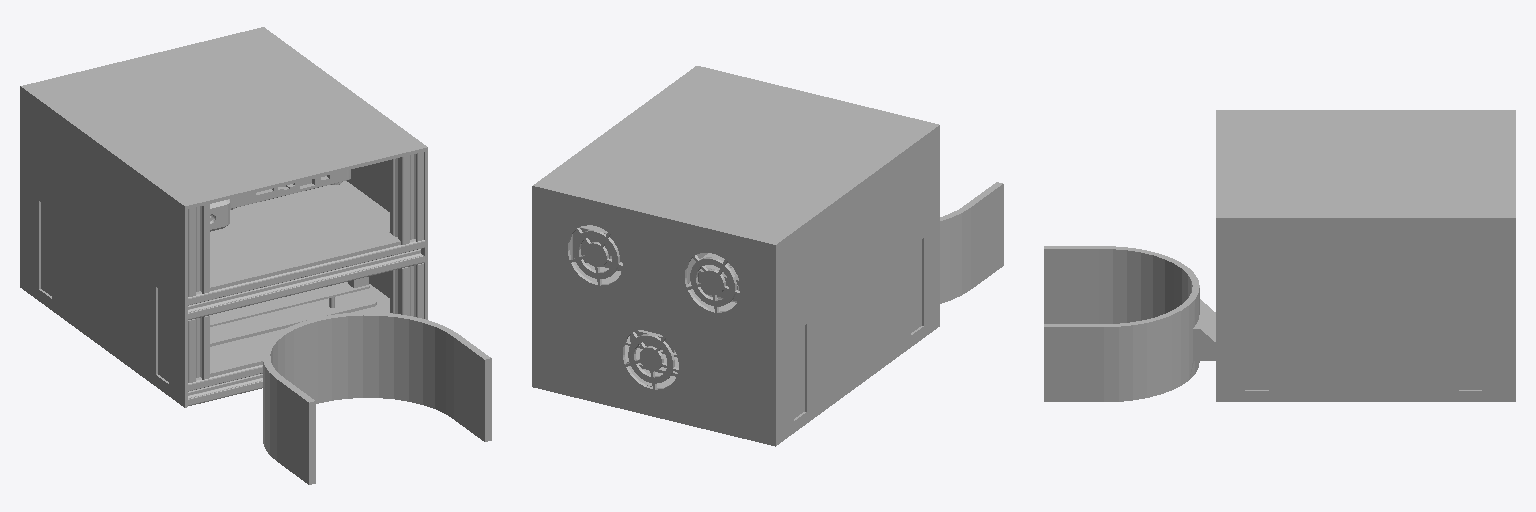
robot.urdf — cw2:
<?xml version="1.0" encoding="utf-8"?>
<!-- This URDF was automatically created by SolidWorks to URDF Exporter! Originally created by [author] ([email redacted]) 
     Commit Version: 1.5.1-0-g916b5db  Build Version: 1.5.7152.31018
     For more information, please see http://wiki.ros.org/sw_urdf_exporter -->
<robot
  name="cw2">
  <link
    name="Base">
    <inertial>
      <origin
        xyz="-0.0103440198515111 0.00278990141042701 0.307992605321708"
        rpy="0 0 0" />
      <mass
        value="5.26325366509137" />
      <inertia
        ixx="0.0219350627580291"
        ixy="-4.01751561824983E-06"
        ixz="-1.47975198134269E-06"
        iyy="0.0231941861217009"
        iyz="-8.31653282119486E-06"
        izz="0.0148943720049105" />
    </inertial>
    <visual>
      <origin
        xyz="0 0 0"
        rpy="0 0 0" />
      <geometry>
        <mesh
          filename="package://cw2/meshes/Base.STL" />
      </geometry>
      <material
        name="">
        <color
          rgba="0.752941176470588 0.752941176470588 0.752941176470588 1" />
      </material>
    </visual>
    <collision>
      <origin
        xyz="0 0 0"
        rpy="0 0 0" />
      <geometry>
        <mesh
          filename="package://cw2/meshes/Base.STL" />
      </geometry>
    </collision>
  </link>
  <link
    name="LFS">
    <inertial>
      <origin
        xyz="0.0666875210853818 0.00364278355332764 -0.0648369138582873"
        rpy="0 0 0" />
      <mass
        value="0.26437001106024" />
      <inertia
        ixx="3.20746276473134E-05"
        ixy="-1.44118283521323E-07"
        ixz="-6.30853084344804E-08"
        iyy="6.22704126338856E-05"
        iyz="-2.01894652764193E-07"
        izz="6.28519936954001E-05" />
    </inertial>
    <visual>
      <origin
        xyz="0 0 0"
        rpy="0 0 0" />
      <geometry>
        <mesh
          filename="package://cw2/meshes/LFS.STL" />
      </geometry>
      <material
        name="">
        <color
          rgba="0.752941176470588 0.752941176470588 0.752941176470588 1" />
      </material>
    </visual>
    <collision>
      <origin
        xyz="0 0 0"
        rpy="0 0 0" />
      <geometry>
        <mesh
          filename="package://cw2/meshes/LFS.STL" />
      </geometry>
    </collision>
  </link>
  <joint
    name="LFS"
    type="prismatic">
    <origin
      xyz="0.195921511885521 -0.400832554820273 -0.125694167771293"
      rpy="2.8339623757072 0 3.14159265358979" />
    <parent
      link="Base" />
    <child
      link="LFS" />
    <axis
      xyz="0 0.30280101609128 -0.953053799454201" />
    <limit
      lower="0"
      upper="0"
      effort="0"
      velocity="0" />
  </joint>
  <link
    name="LFW">
    <inertial>
      <origin
        xyz="-0.012315724574073 -1.38777878078145E-17 0"
        rpy="0 0 0" />
      <mass
        value="0.193585420779862" />
      <inertia
        ixx="0.000253081141332254"
        ixy="-5.88092833198904E-37"
        ixz="5.1845054750851E-21"
        iyy="0.000136818598566517"
        iyz="7.17557753438369E-37"
        izz="0.000136818598566517" />
    </inertial>
    <visual>
      <origin
        xyz="0 0 0"
        rpy="0 0 0" />
      <geometry>
        <mesh
          filename="package://cw2/meshes/LFW.STL" />
      </geometry>
      <material
        name="">
        <color
          rgba="1 1 1 1" />
      </material>
    </visual>
    <collision>
      <origin
        xyz="0 0 0"
        rpy="0 0 0" />
      <geometry>
        <mesh
          filename="package://cw2/meshes/LFW.STL" />
      </geometry>
    </collision>
  </link>
  <joint
    name="LFW"
    type="continuous">
    <origin
      xyz="0.000410991135076699 -0.0182187173367753 -0.0397861154043609"
      rpy="-1.87842660467749 0 3.14159265358979" />
    <parent
      link="LFS" />
    <child
      link="LFW" />
    <axis
      xyz="1 0 0" />
  </joint>
  <link
    name="RFS">
    <inertial>
      <origin
        xyz="0.0724473276378504 -0.00242306558271338 -0.0667549990091164"
        rpy="0 0 0" />
      <mass
        value="0.26437001106024" />
      <inertia
        ixx="3.20746276473134E-05"
        ixy="1.4411828352133E-07"
        ixz="6.30853084344787E-08"
        iyy="6.22704126338856E-05"
        iyz="-2.01894652764193E-07"
        izz="6.28519936954002E-05" />
    </inertial>
    <visual>
      <origin
        xyz="0 0 0"
        rpy="0 0 0" />
      <geometry>
        <mesh
          filename="package://cw2/meshes/RFS.STL" />
      </geometry>
      <material
        name="">
        <color
          rgba="0.752941176470588 0.752941176470588 0.752941176470588 1" />
      </material>
    </visual>
    <collision>
      <origin
        xyz="0 0 0"
        rpy="0 0 0" />
      <geometry>
        <mesh
          filename="package://cw2/meshes/RFS.STL" />
      </geometry>
    </collision>
  </link>
  <joint
    name="RFS"
    type="prismatic">
    <origin
      xyz="-0.224160276937101 -0.439516262899762 -0.125694167771293"
      rpy="2.8339623757072 0 0" />
    <parent
      link="Base" />
    <child
      link="RFS" />
    <axis
      xyz="0 0.30280101609128 -0.953053799454201" />
    <limit
      lower="0"
      upper="0"
      effort="0"
      velocity="0" />
  </joint>
  <link
    name="RFW">
    <inertial>
      <origin
        xyz="-0.012315724574073 0 0"
        rpy="0 0 0" />
      <mass
        value="0.193585420779862" />
      <inertia
        ixx="0.000253081141332254"
        ixy="-9.44297928840748E-22"
        ixz="9.68305644339428E-21"
        iyy="0.000136818598566517"
        iyz="1.01643953670516E-20"
        izz="0.000136818598566517" />
    </inertial>
    <visual>
      <origin
        xyz="0 0 0"
        rpy="0 0 0" />
      <geometry>
        <mesh
          filename="package://cw2/meshes/RFW.STL" />
      </geometry>
      <material
        name="">
        <color
          rgba="1 1 1 1" />
      </material>
    </visual>
    <collision>
      <origin
        xyz="0 0 0"
        rpy="0 0 0" />
      <geometry>
        <mesh
          filename="package://cw2/meshes/RFW.STL" />
      </geometry>
    </collision>
  </link>
  <joint
    name="RFW"
    type="continuous">
    <origin
      xyz="0.00617079768754525 0.000974051196125147 -0.0336899045278703"
      rpy="-0.699426690072099 0 3.14159265358979" />
    <parent
      link="RFS" />
    <child
      link="RFW" />
    <axis
      xyz="1 0 0" />
  </joint>
  <link
    name="LBS">
    <inertial>
      <origin
        xyz="0.0754022136877307 -0.00953574862501649 -0.0222014198592475"
        rpy="0 0 0" />
      <mass
        value="0.197009126147877" />
      <inertia
        ixx="1.68802738687172E-05"
        ixy="2.58362469530557E-21"
        ixz="1.18520819431776E-21"
        iyy="5.02184885667569E-05"
        iyz="1.05088759291849E-06"
        izz="4.72447473350486E-05" />
    </inertial>
    <visual>
      <origin
        xyz="0 0 0"
        rpy="0 0 0" />
      <geometry>
        <mesh
          filename="package://cw2/meshes/LBS.STL" />
      </geometry>
      <material
        name="">
        <color
          rgba="0.752941176470588 0.752941176470588 0.752941176470588 1" />
      </material>
    </visual>
    <collision>
      <origin
        xyz="0 0 0"
        rpy="0 0 0" />
      <geometry>
        <mesh
          filename="package://cw2/meshes/LBS.STL" />
      </geometry>
    </collision>
  </link>
  <joint
    name="LBS"
    type="prismatic">
    <origin
      xyz="0.195921511885521 -0.220832554820273 -0.0742634321807595"
      rpy="2.8339623757072 0 3.14159265358979" />
    <parent
      link="Base" />
    <child
      link="LBS" />
    <axis
      xyz="0 0.302801016091279 -0.953053799454201" />
    <limit
      lower="0"
      upper="0"
      effort="0"
      velocity="0" />
  </joint>
  <link
    name="LBC">
    <inertial>
      <origin
        xyz="0.0021267567875245 -0.00125107346378661 -2.77555756156289E-17"
        rpy="0 0 0" />
      <mass
        value="0.0337925918529465" />
      <inertia
        ixx="9.9077845929407E-06"
        ixy="1.2779398016802E-06"
        ixz="4.16196805620863E-22"
        iyy="2.88462343109062E-06"
        iyz="2.46038886416933E-21"
        izz="1.17553584577796E-05" />
    </inertial>
    <visual>
      <origin
        xyz="0 0 0"
        rpy="0 0 0" />
      <geometry>
        <mesh
          filename="package://cw2/meshes/LBC.STL" />
      </geometry>
      <material
        name="">
        <color
          rgba="0.898039215686275 0.917647058823529 0.929411764705882 1" />
      </material>
    </visual>
    <collision>
      <origin
        xyz="0 0 0"
        rpy="0 0 0" />
      <geometry>
        <mesh
          filename="package://cw2/meshes/LBC.STL" />
      </geometry>
    </collision>
  </link>
  <joint
    name="LBC"
    type="continuous">
    <origin
      xyz="0.0411609911350767 -0.0150684419408276 -0.00478749419309598"
      rpy="-1.87842660467749 0 3.14159265358979" />
    <parent
      link="LBS" />
    <child
      link="LBC" />
    <axis
      xyz="0 1 0" />
  </joint>
  <link
    name="LBW">
    <inertial>
      <origin
        xyz="0.017684275425927 0 0"
        rpy="0 0 0" />
      <mass
        value="0.193585420779862" />
      <inertia
        ixx="0.000253081141332254"
        ixy="-5.88092833198904E-37"
        ixz="5.1845054750851E-21"
        iyy="0.000136818598566517"
        iyz="7.17557753438369E-37"
        izz="0.000136818598566517" />
    </inertial>
    <visual>
      <origin
        xyz="0 0 0"
        rpy="0 0 0" />
      <geometry>
        <mesh
          filename="package://cw2/meshes/LBW.STL" />
      </geometry>
      <material
        name="">
        <color
          rgba="1 1 1 1" />
      </material>
    </visual>
    <collision>
      <origin
        xyz="0 0 0"
        rpy="0 0 0" />
      <geometry>
        <mesh
          filename="package://cw2/meshes/LBW.STL" />
      </geometry>
    </collision>
  </link>
  <joint
    name="LBW"
    type="continuous">
    <origin
      xyz="0.01075 -0.0190326828634146 0"
      rpy="0 0 0" />
    <parent
      link="LBC" />
    <child
      link="LBW" />
    <axis
      xyz="1 0 0" />
  </joint>
  <link
    name="RBS">
    <inertial>
      <origin
        xyz="0.0754022136877307 -0.00953574862501652 -0.0222014198592475"
        rpy="0 0 0" />
      <mass
        value="0.197009126147877" />
      <inertia
        ixx="1.68802738687172E-05"
        ixy="-2.41437922096227E-21"
        ixz="-1.24106156676994E-21"
        iyy="5.02184885667569E-05"
        iyz="1.05088759291849E-06"
        izz="4.72447473350486E-05" />
    </inertial>
    <visual>
      <origin
        xyz="0 0 0"
        rpy="0 0 0" />
      <geometry>
        <mesh
          filename="package://cw2/meshes/RBS.STL" />
      </geometry>
      <material
        name="">
        <color
          rgba="0.752941176470588 0.752941176470588 0.752941176470588 1" />
      </material>
    </visual>
    <collision>
      <origin
        xyz="0 0 0"
        rpy="0 0 0" />
      <geometry>
        <mesh
          filename="package://cw2/meshes/RBS.STL" />
      </geometry>
    </collision>
  </link>
  <joint
    name="RBS"
    type="prismatic">
    <origin
      xyz="-0.218400470384632 -0.252453942719796 -0.0742634321807595"
      rpy="2.8339623757072 0 0" />
    <parent
      link="Base" />
    <child
      link="RBS" />
    <axis
      xyz="0 0.30280101609128 -0.953053799454201" />
    <limit
      lower="0"
      upper="0"
      effort="0"
      velocity="0" />
  </joint>
  <link
    name="RBC">
    <inertial>
      <origin
        xyz="0.00212675678752453 -0.00125107346378658 0"
        rpy="0 0 0" />
      <mass
        value="0.0337925918529465" />
      <inertia
        ixx="9.90778459294068E-06"
        ixy="1.2779398016802E-06"
        ixz="6.79399474451284E-22"
        iyy="2.88462343109061E-06"
        iyz="2.61210532719032E-21"
        izz="1.17553584577795E-05" />
    </inertial>
    <visual>
      <origin
        xyz="0 0 0"
        rpy="0 0 0" />
      <geometry>
        <mesh
          filename="package://cw2/meshes/RBC.STL" />
      </geometry>
      <material
        name="">
        <color
          rgba="0.898039215686275 0.917647058823529 0.929411764705882 1" />
      </material>
    </visual>
    <collision>
      <origin
        xyz="0 0 0"
        rpy="0 0 0" />
      <geometry>
        <mesh
          filename="package://cw2/meshes/RBC.STL" />
      </geometry>
    </collision>
  </link>
  <joint
    name="RBC"
    type="continuous">
    <origin
      xyz="0.0411609911350767 -0.0150684419408277 -0.00478749419309599"
      rpy="-1.87842660467749 0 3.14159265358979" />
    <parent
      link="RBS" />
    <child
      link="RBC" />
    <axis
      xyz="0 1 0" />
  </joint>
  <link
    name="RBW">
    <inertial>
      <origin
        xyz="0.017684275425927 2.77555756156289E-17 2.77555756156289E-17"
        rpy="0 0 0" />
      <mass
        value="0.193585420779862" />
      <inertia
        ixx="0.000253081141332253"
        ixy="-1.77826406212573E-20"
        ixz="1.08676942117992E-20"
        iyy="0.000136818598566517"
        iyz="3.3881317890172E-21"
        izz="0.000136818598566517" />
    </inertial>
    <visual>
      <origin
        xyz="0 0 0"
        rpy="0 0 0" />
      <geometry>
        <mesh
          filename="package://cw2/meshes/RBW.STL" />
      </geometry>
      <material
        name="">
        <color
          rgba="1 1 1 1" />
      </material>
    </visual>
    <collision>
      <origin
        xyz="0 0 0"
        rpy="0 0 0" />
      <geometry>
        <mesh
          filename="package://cw2/meshes/RBW.STL" />
      </geometry>
    </collision>
  </link>
  <joint
    name="RBW"
    type="continuous">
    <origin
      xyz="0.01075 -0.0190326828634147 0"
      rpy="1.78079104161261 0 0" />
    <parent
      link="RBC" />
    <child
      link="RBW" />
    <axis
      xyz="1 0 0" />
  </joint>
  <link
    name="Lidar">
    <inertial>
      <origin
        xyz="-0.0784930223787604 -0.744427430950029 -0.133449677865896"
        rpy="0 0 0" />
      <mass
        value="0.0730845704999828" />
      <inertia
        ixx="1.95808756791187E-05"
        ixy="4.28391210140712E-07"
        ixz="-1.03933581663682E-07"
        iyy="4.14184516311443E-05"
        iyz="-9.42671864204423E-09"
        izz="2.41250079960291E-05" />
    </inertial>
    <visual>
      <origin
        xyz="0 0 0"
        rpy="0 0 0" />
      <geometry>
        <mesh
          filename="package://cw2/meshes/Lidar.STL" />
      </geometry>
      <material
        name="">
        <color
          rgba="0.792156862745098 0.819607843137255 0.933333333333333 1" />
      </material>
    </visual>
    <collision>
      <origin
        xyz="0 0 0"
        rpy="0 0 0" />
      <geometry>
        <mesh
          filename="package://cw2/meshes/Lidar.STL" />
      </geometry>
    </collision>
  </link>
  <joint
    name="Lidar"
    type="fixed">
    <origin
      xyz="0.121678091713213 -0.353083263507212 -0.627184038555925"
      rpy="-1.57079634786832 0 -1.5707963267949" />
    <parent
      link="Base" />
    <child
      link="Lidar" />
    <axis
      xyz="0 0 0" />
  </joint>
  <link
    name="Cam">
    <inertial>
      <origin
        xyz="-0.0238863589328312 -0.0255006330045159 0.0933352730175543"
        rpy="0 0 0" />
      <mass
        value="0.0842240111641082" />
      <inertia
        ixx="1.39666927752748E-05"
        ixy="-8.82405655949378E-10"
        ixz="-1.01133319009129E-09"
        iyy="3.67256443822933E-05"
        iyz="-1.51507686967881E-06"
        izz="3.01150328860415E-05" />
    </inertial>
    <visual>
      <origin
        xyz="0 0 0"
        rpy="0 0 0" />
      <geometry>
        <mesh
          filename="package://cw2/meshes/Cam.STL" />
      </geometry>
      <material
        name="">
        <color
          rgba="0.752941176470588 0.752941176470588 0.752941176470588 1" />
      </material>
    </visual>
    <collision>
      <origin
        xyz="0 0 0"
        rpy="0 0 0" />
      <geometry>
        <mesh
          filename="package://cw2/meshes/Cam.STL" />
      </geometry>
    </collision>
  </link>
  <joint
    name="Cam"
    type="fixed">
    <origin
      xyz="0.0126515628898378 -0.352319258255753 0.0862562798773894"
      rpy="1.71881318872403 0 0" />
    <parent
      link="Base" />
    <child
      link="Cam" />
    <axis
      xyz="0 0 0" />
  </joint>
</robot>

--- What the picture shows (computed from the rendered views, not written in the file) ---
3 views of the same robot in one strip: view 1: azimuth 30°, elevation 25°; view 2: azimuth 150°, elevation 25°; view 3: azimuth 270°, elevation 25° (orthographic).
Model cw2 with 13 links and 12 joints (6 continuous, 4 prismatic, 2 fixed), rooted at Base, posed all joints at 0.
Visible links, largest first — view 1: Base; view 2: Base; view 3: Base.
Link boxes in pixels (left/top/right/bottom): Base: left=20, top=27, right=491, bottom=484; Base: left=532, top=66, right=1003, bottom=446; Base: left=1044, top=110, right=1515, bottom=401.
Size in the robot's own frame: 0.216 by 0.3973 by 0.1845 metres.
Meshes: 13 distinct files referenced, 1 mesh visuals loaded (1 binary STL); not drawn: 12 (reference not matched to a file when rendering).